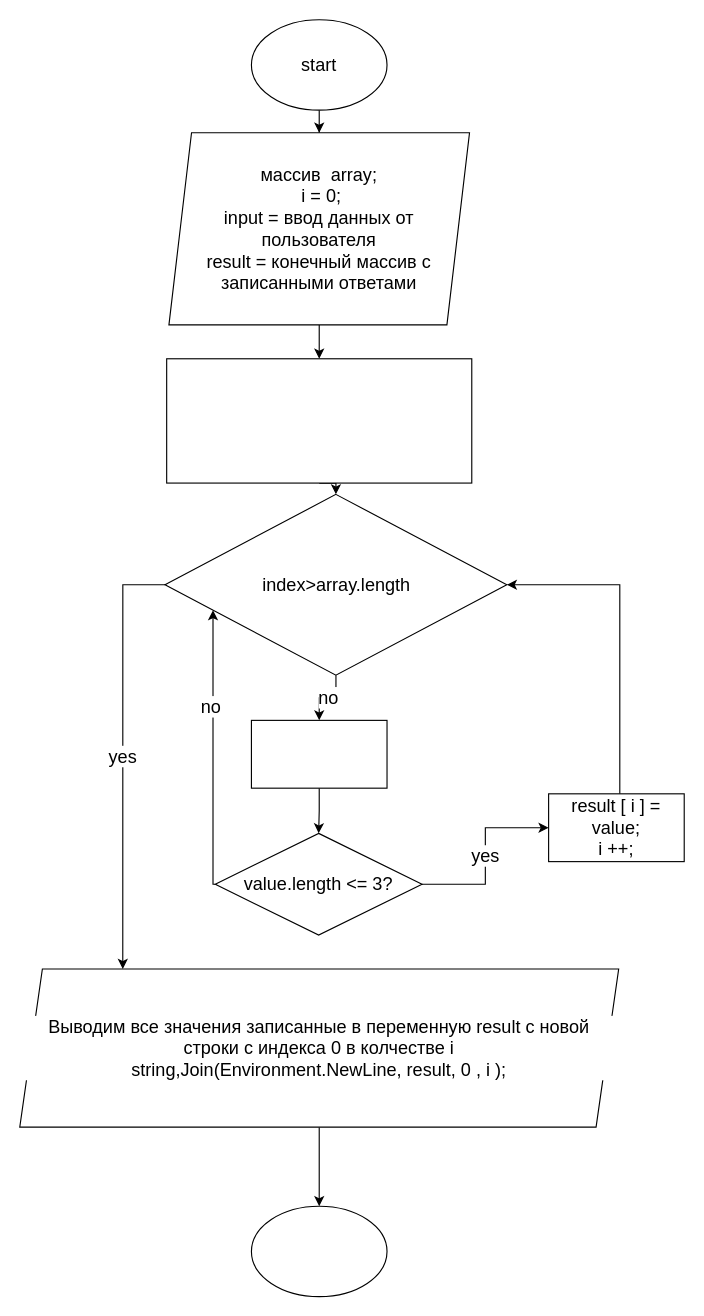
Image size: 704x1316. Some labels were removed from this diagram. Here are the shapes that lost their labels. From the top down, the centre of each, then its label:
At [319,420]: "index = 0 value = array[index]".
At [318,753]: "index ++".
At [318,1251]: "Finish".
